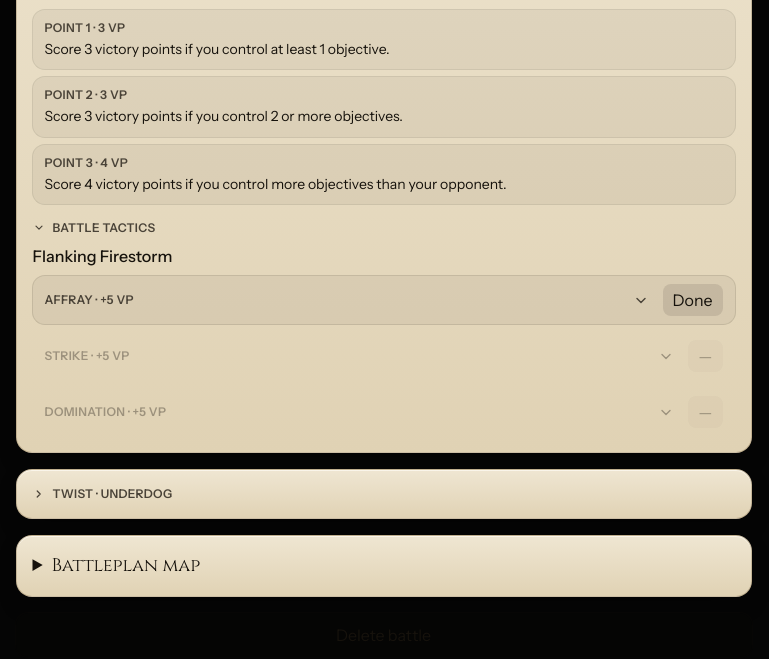
BattleRecordGameScreen › adds completed tactic stages to the match total
This screenshot has width=769, height=659.
(page scrolled)
Expected: the text "Flanking Firestorm" is shown, [32, 246, 172, 266]
Expected: the text "5 tactics" is not shown
Click the button with aria-label "Mark Affray done" at (693, 300), box [663, 284, 722, 316]
(page scrolled)
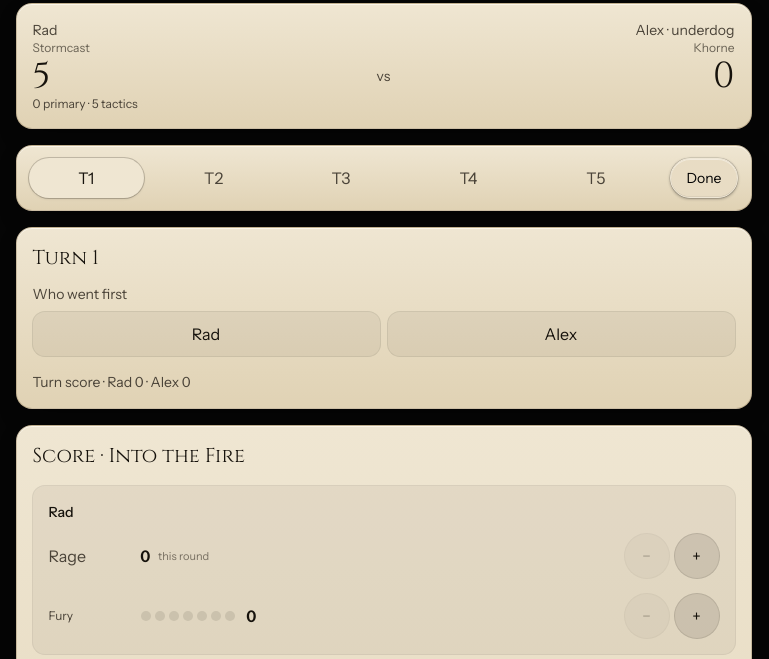
Expected: the text "0 primary · 5 tactics" is shown, [32, 96, 138, 111]
Expected: the text "5" is shown, [32, 52, 50, 100]
